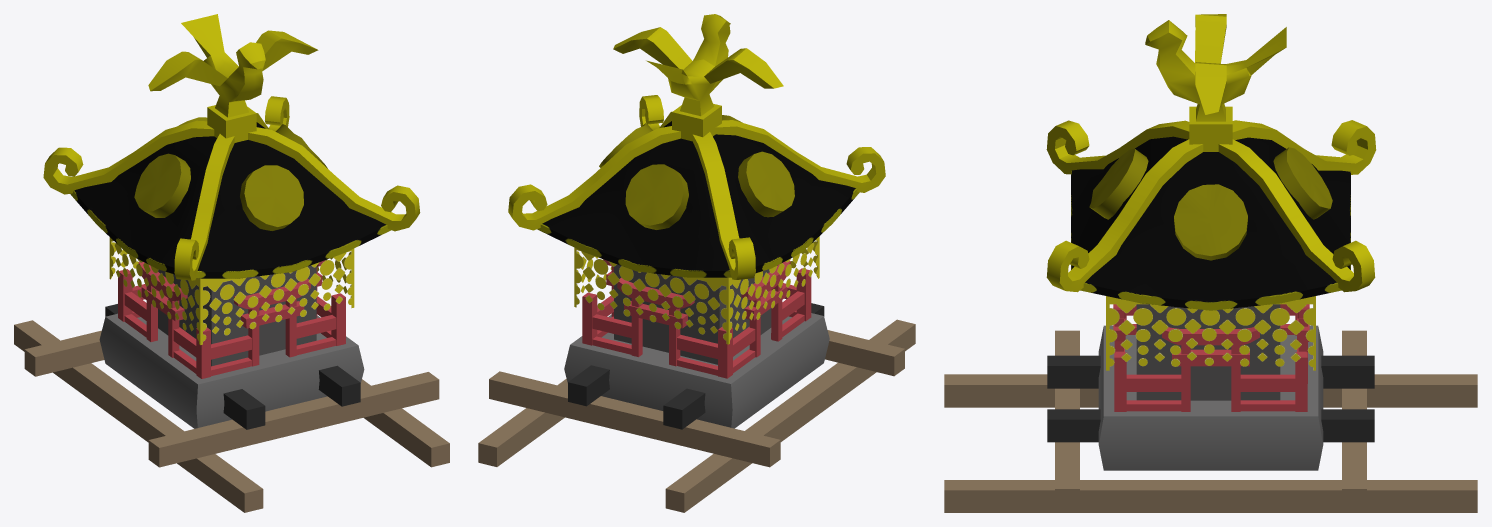
File: omikoshi10.10.fbx
The picture shows the model from 3 angles, left to right: view 1: azimuth 30°, elevation 25°; view 2: azimuth 150°, elevation 25°; view 3: azimuth 270°, elevation 25°; orthographic projection. The views are drawn at different scales.
Parts seen in each view (by area): view 1: pCone1, pCube7, pCube2, pCube4, pCube38, pCube39, pCube8, pCube13, pCube10, pCylinder5, pCube9, pCylinder2 (+15 smaller); view 2: pCone1, pCube7, pCube1, pCube4, pCube38, pCube39, pCube8, pCube14, pCube10, pCylinder4, pCube9, pCylinder2 (+15 smaller); view 3: pCone1, pCube7, pCube3, pCube4, pCube39, pCube38, pCube8, pCube13, pCube14, pCylinder3, pCube5, pCube6 (+15 smaller).
Boxes of the visible parts, x1,y1,x2,y2 form: pCone1: (70,122,390,278); pCube7: (99,313,364,428); pCube2: (148,372,439,467); pCube4: (14,320,263,512); pCube38: (109,237,354,344); pCube39: (148,14,318,117); pCube8: (158,265,316,366); pCube13: (248,127,420,231); pCube10: (43,120,214,194); pCylinder5: (240,165,303,230); pCube9: (174,134,234,280); pCylinder2: (134,153,190,217); pCone1: (537,121,859,277); pCube7: (564,313,829,428); pCube1: (489,371,780,467); pCube4: (665,319,915,512); pCube38: (574,236,819,344); pCube39: (613,14,783,116); pCube8: (614,264,777,364); pCube14: (508,126,680,230); pCube10: (692,132,755,279); pCylinder4: (625,164,688,229); pCube9: (715,120,885,192); pCylinder2: (738,151,794,217); pCone1: (1071,136,1350,310); pCube7: (1098,325,1323,470); pCube3: (944,480,1477,512); pCube4: (944,374,1477,407); pCube39: (1145,14,1286,121); pCube38: (1106,296,1315,370); pCube8: (1136,304,1280,400); pCube13: (1046,139,1203,292); pCube14: (1218,139,1375,292); pCylinder3: (1174,184,1247,260); pCube5: (1047,355,1374,388); pCube6: (1047,409,1374,442).
Bounding box in the file's own units: 120 × 153 × 171.
9 materials, 2 textured.
